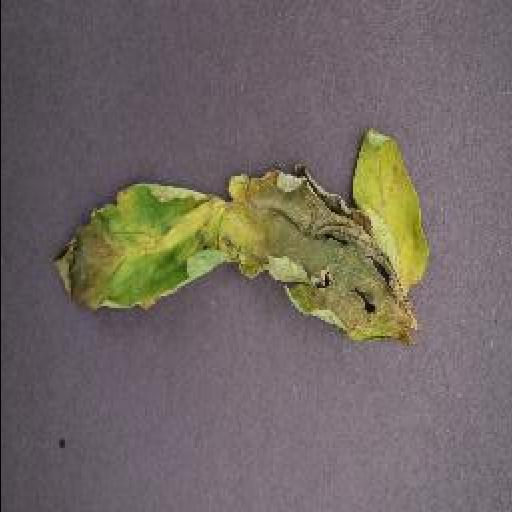disease_tomato: (48, 128, 426, 342)
